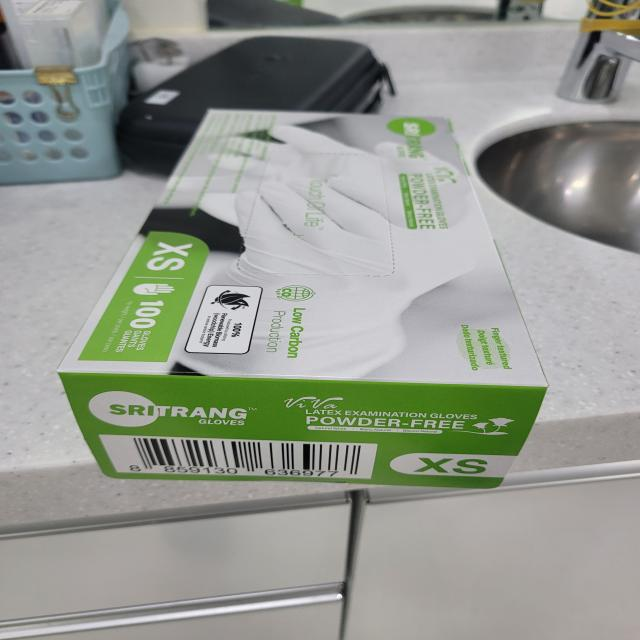glove: (64, 85, 558, 523)
